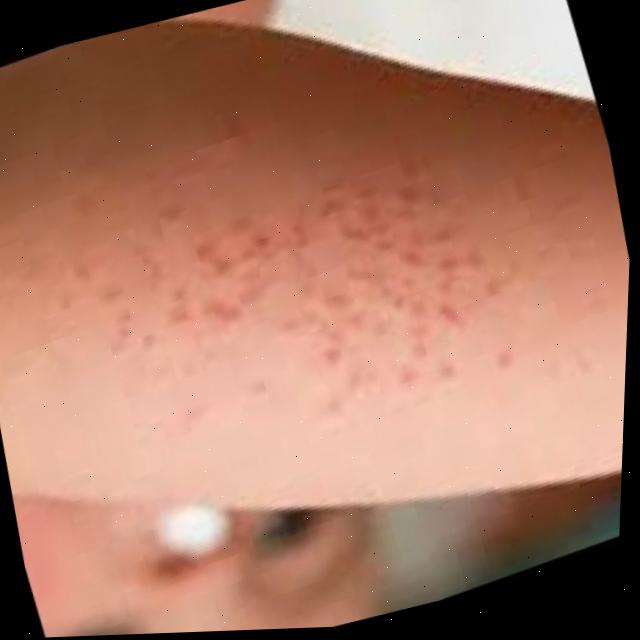Eczema: (174, 126, 531, 430)
